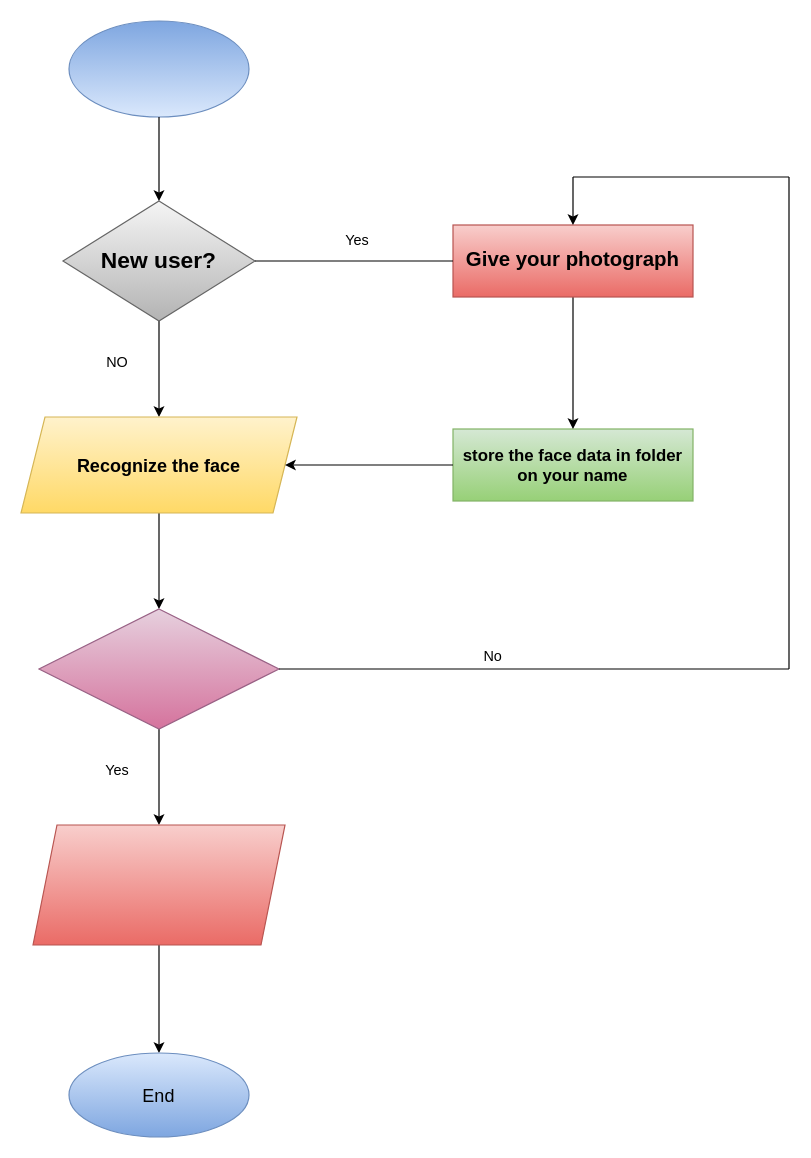
Some shapes in this 811 by 1158 pixel diagram are drawn without their labels. Each missing label, with the centre of its shape:
"Face Recognized" belongs at pixel 158 668.
"Start" belongs at pixel 158 68.
"store in c and b file with registration number and data time or entry" belongs at pixel 158 884.
